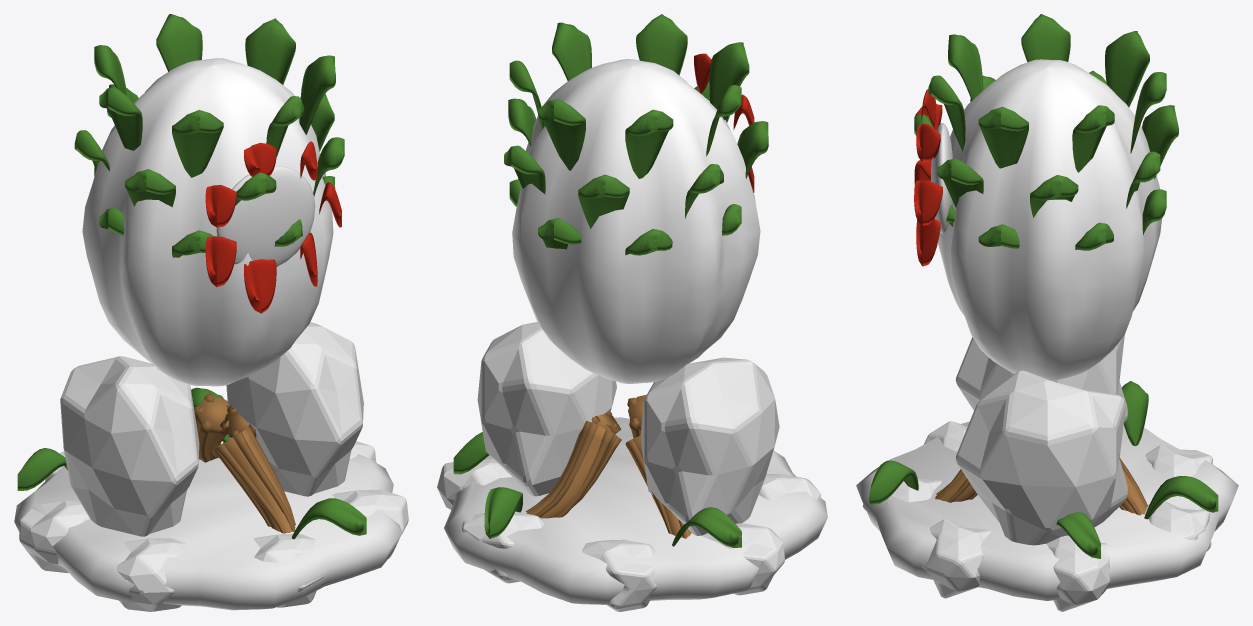
File: dragonfruit-1.fbx
3 renders of one model, left to right at view 1: azimuth 30°, elevation 25°; view 2: azimuth 150°, elevation 25°; view 3: azimuth 270°, elevation 25°, orthographic. The views are drawn at different scales.
Parts seen in each view (by area): view 1: DragonfruitPeel, Turret_Stone, EarthBed, Petals_PortalBamboo, dragonfruit-1_Stone, Barrel_PortalPeel, dragonfruit-1_Bark, EmberThroat, dragonfruit-1_PortalBamboo; view 2: DragonfruitPeel, Turret_Stone, EarthBed, Petals_PortalBamboo, dragonfruit-1_Stone, dragonfruit-1_Bark, dragonfruit-1_PortalBamboo, Barrel_PortalPeel; view 3: DragonfruitPeel, Turret_Stone, EarthBed, Petals_PortalBamboo, dragonfruit-1_Stone, dragonfruit-1_PortalBamboo, Barrel_PortalPeel, dragonfruit-1_Bark, EmberThroat.
Part boxes in pixels (x1,y1,x2,y2): DragonfruitPeel: (82, 58, 333, 386); Turret_Stone: (60, 322, 363, 536); EarthBed: (14, 454, 402, 610); Petals_PortalBamboo: (74, 14, 344, 257); dragonfruit-1_Stone: (19, 437, 408, 611); Barrel_PortalPeel: (205, 141, 341, 313); dragonfruit-1_Bark: (194, 393, 295, 533); EmberThroat: (216, 166, 315, 266); dragonfruit-1_PortalBamboo: (17, 387, 366, 539); DragonfruitPeel: (512, 59, 760, 383); Turret_Stone: (477, 322, 779, 535); EarthBed: (444, 417, 827, 604); Petals_PortalBamboo: (504, 14, 768, 255); dragonfruit-1_Stone: (437, 459, 821, 611); dragonfruit-1_Bark: (525, 394, 691, 538); dragonfruit-1_PortalBamboo: (453, 432, 741, 547); Barrel_PortalPeel: (694, 53, 754, 192); DragonfruitPeel: (938, 59, 1161, 381); Turret_Stone: (955, 335, 1127, 545); EarthBed: (856, 421, 1238, 600); Petals_PortalBamboo: (914, 14, 1178, 250); dragonfruit-1_Stone: (863, 421, 1213, 611); dragonfruit-1_PortalBamboo: (869, 381, 1218, 558); Barrel_PortalPeel: (914, 89, 942, 266); dragonfruit-1_Bark: (935, 458, 1147, 515); EmberThroat: (931, 123, 952, 233).
Size of the model in its own units: 83.98 by 114 by 82.7.
